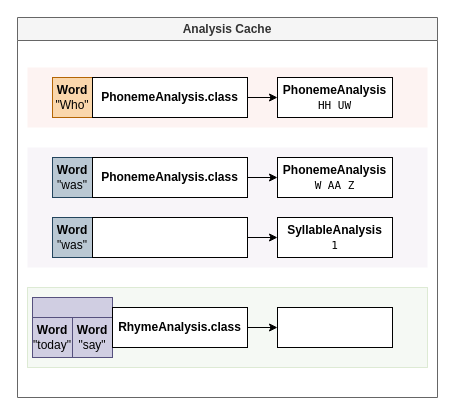
Image size: 455x415. Some labels were removed from this diagram. The box of each missing label's shape, as (x1, y1, x2, y2) in pixels:
RhymeAnalysis 1: (276, 306, 392, 348)
SyllableAnalysis.class: (92, 216, 248, 258)
WordPair: (32, 296, 112, 318)
